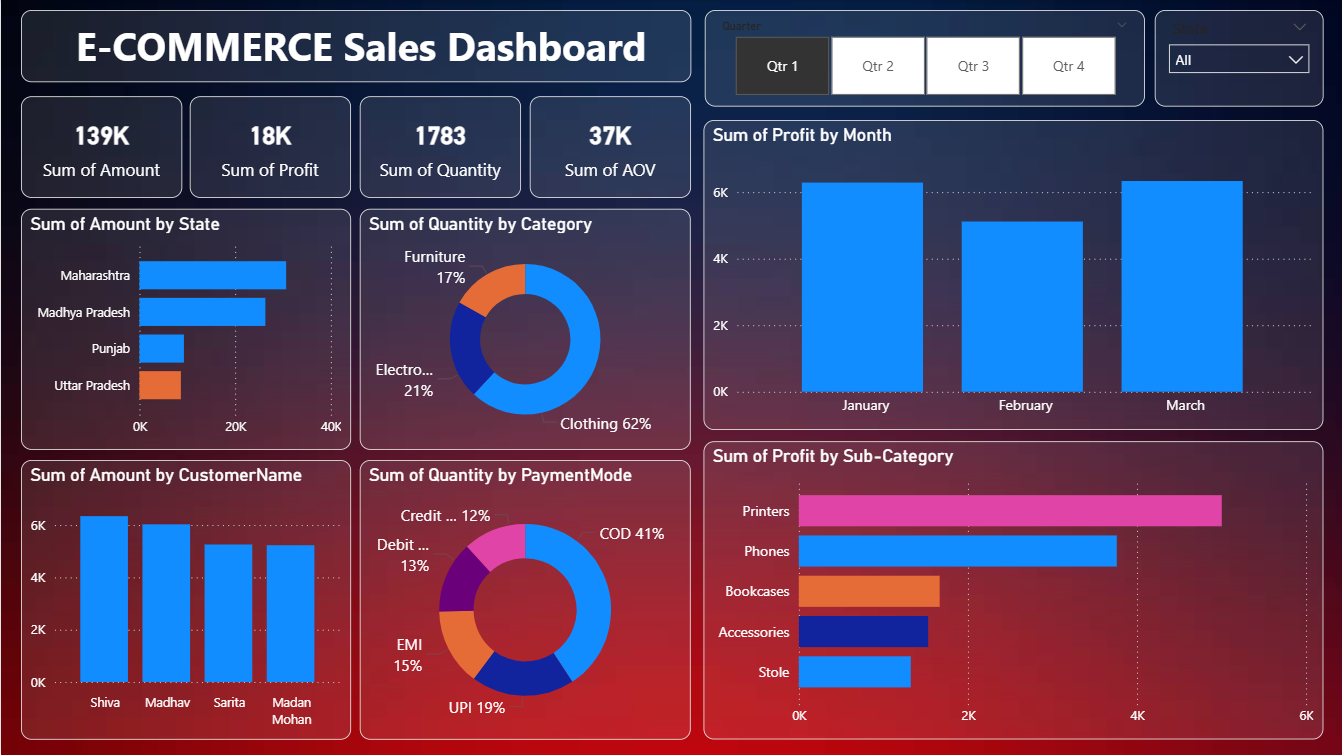

The page's visual inventory and layout, read from the dashboard file:
{"tool":"powerbi","page":{"name":"Sales Overview","canvas":[1280,720],"ordinal":0},"visuals":[{"type":"textbox","box":[19,9.5,638.1,69],"z":0},{"type":"barChart","fields":{"Category":["Details.Sub-Category"],"Y":["Sum(Details.Profit)"]},"box":[669.6,419.9,590.1,284],"z":1000},{"type":"donutChart","fields":{"Category":["Details.Category"],"Y":["Sum(Details.Quantity)"]},"box":[341.7,198.8,315.5,229.8],"z":2000},{"type":"columnChart","fields":{"Y":["Sum(Details.Profit)"],"Category":["Orders (2).Order Date.Variation.Date Hierarchy.Month"]},"box":[669.6,113.9,590.1,295],"z":3000},{"type":"donutChart","fields":{"Y":["Sum(Details.Quantity)"],"Category":["Details.PaymentMode"]},"box":[341.7,438.1,315.5,266.7],"z":4000},{"type":"card","fields":{"Values":["Sum(Details.Amount)"]},"box":[19,91.7,153.6,96.4],"z":5000},{"type":"card","fields":{"Values":["Sum(Details.Quantity)"]},"box":[341.7,91.7,153.6,96.4],"z":6000},{"type":"card","fields":{"Values":["Sum(Details.Profit)"]},"box":[179.8,91.7,153.6,96.4],"z":7000},{"type":"card","fields":{"Values":["Sum(Details.ATV)"]},"box":[503.6,91.7,153.6,96.4],"z":8000},{"type":"barChart","fields":{"Category":["Orders (2).State"],"Y":["Sum(Details.Amount)"]},"box":[19,198.8,314.3,229.8],"z":9000},{"type":"columnChart","fields":{"Category":["Orders (2).CustomerName"],"Y":["Sum(Details.Amount)"]},"box":[19,438.1,314.3,266.7],"z":10000},{"type":"slicer","fields":{"Values":["Orders (2).State"]},"box":[1098.8,9.5,160.7,91.7],"z":11000},{"type":"slicer","fields":{"Values":["Orders (2).Order Date.Variation.Date Hierarchy.Quarter"]},"box":[669.8,9.6,419,92.3],"z":12000}]}

Visuals, with their boxes in screenshot pixels (x1, y1, x2, y2), scaled from the page's 1280x720 canvas onto the 1342x755 screenshot:
textbox: bbox=(20, 10, 689, 82)
barChart - Details.Sub-Category x Sum(Details.Profit): bbox=(702, 440, 1321, 738)
donutChart - Details.Category x Sum(Details.Quantity): bbox=(358, 208, 689, 449)
columnChart - Sum(Details.Profit) x Orders (2).Order Date.Variation.Date Hierarchy.Month: bbox=(702, 119, 1321, 429)
donutChart - Sum(Details.Quantity) x Details.PaymentMode: bbox=(358, 459, 689, 739)
card - Sum(Details.Amount): bbox=(20, 96, 181, 197)
card - Sum(Details.Quantity): bbox=(358, 96, 519, 197)
card - Sum(Details.Profit): bbox=(189, 96, 350, 197)
card - Sum(Details.ATV): bbox=(528, 96, 689, 197)
barChart - Orders (2).State x Sum(Details.Amount): bbox=(20, 208, 349, 449)
columnChart - Orders (2).CustomerName x Sum(Details.Amount): bbox=(20, 459, 349, 739)
slicer - Orders (2).State: bbox=(1152, 10, 1321, 106)
slicer - Orders (2).Order Date.Variation.Date Hierarchy.Quarter: bbox=(702, 10, 1142, 107)
